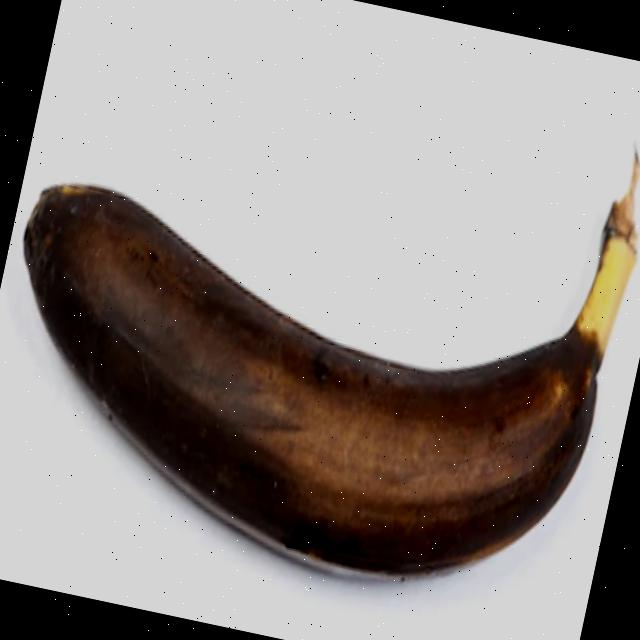Rotten: (0, 22, 640, 619)
